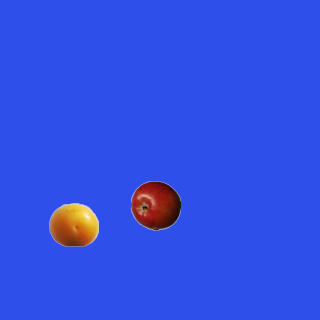Apple Braeburn: (130, 180, 180, 230)
Cherry Wax Yellow: (48, 199, 98, 249)
